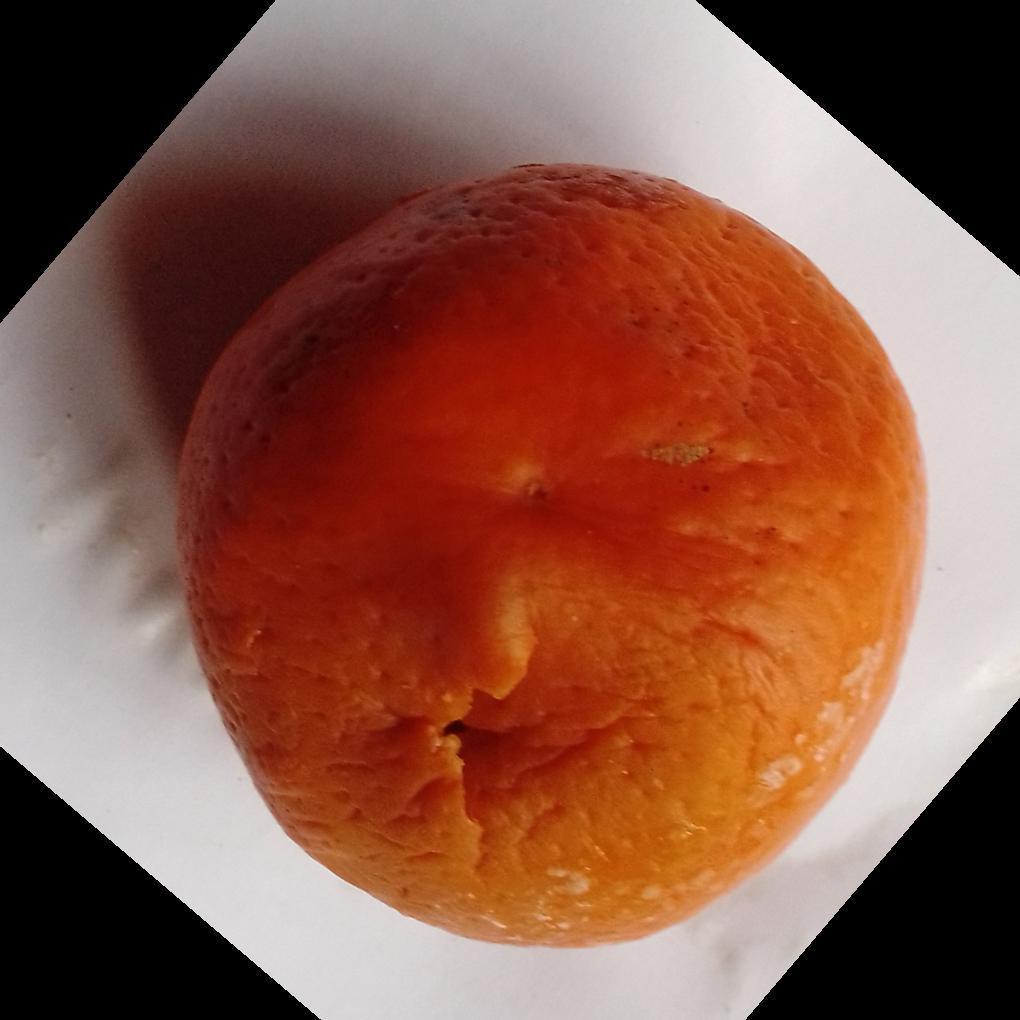FreshOrange: (174, 162, 930, 953)
